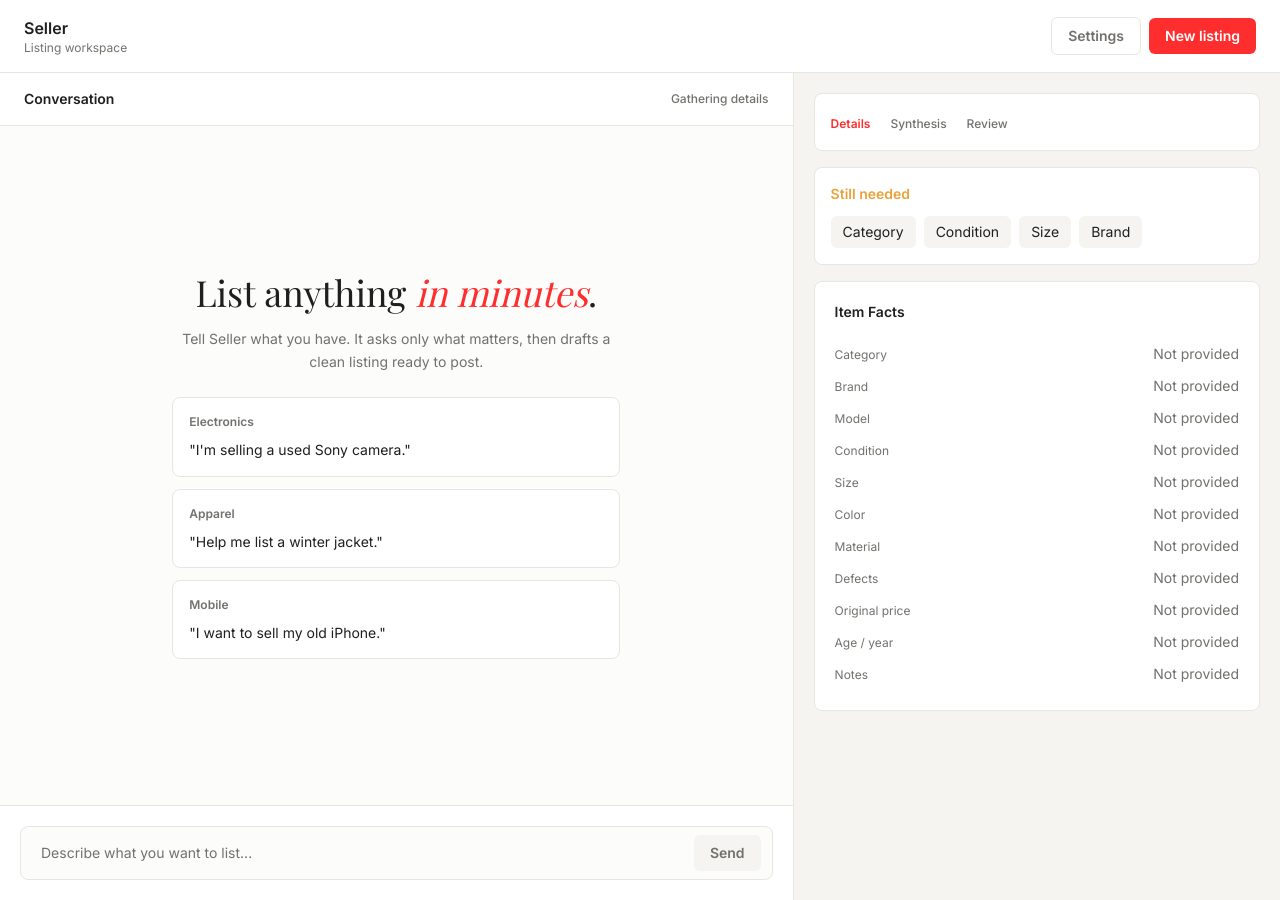
Test case: SellerAgentPage › submits a message through the typed API client and renders the reply
The image size is (1280, 900).
Expected: the heading "List anything in minutes." is shown, [172, 272, 620, 312]
In the text box named "message": (396, 853) [20, 826, 773, 880], type "I want to sell a jacket"
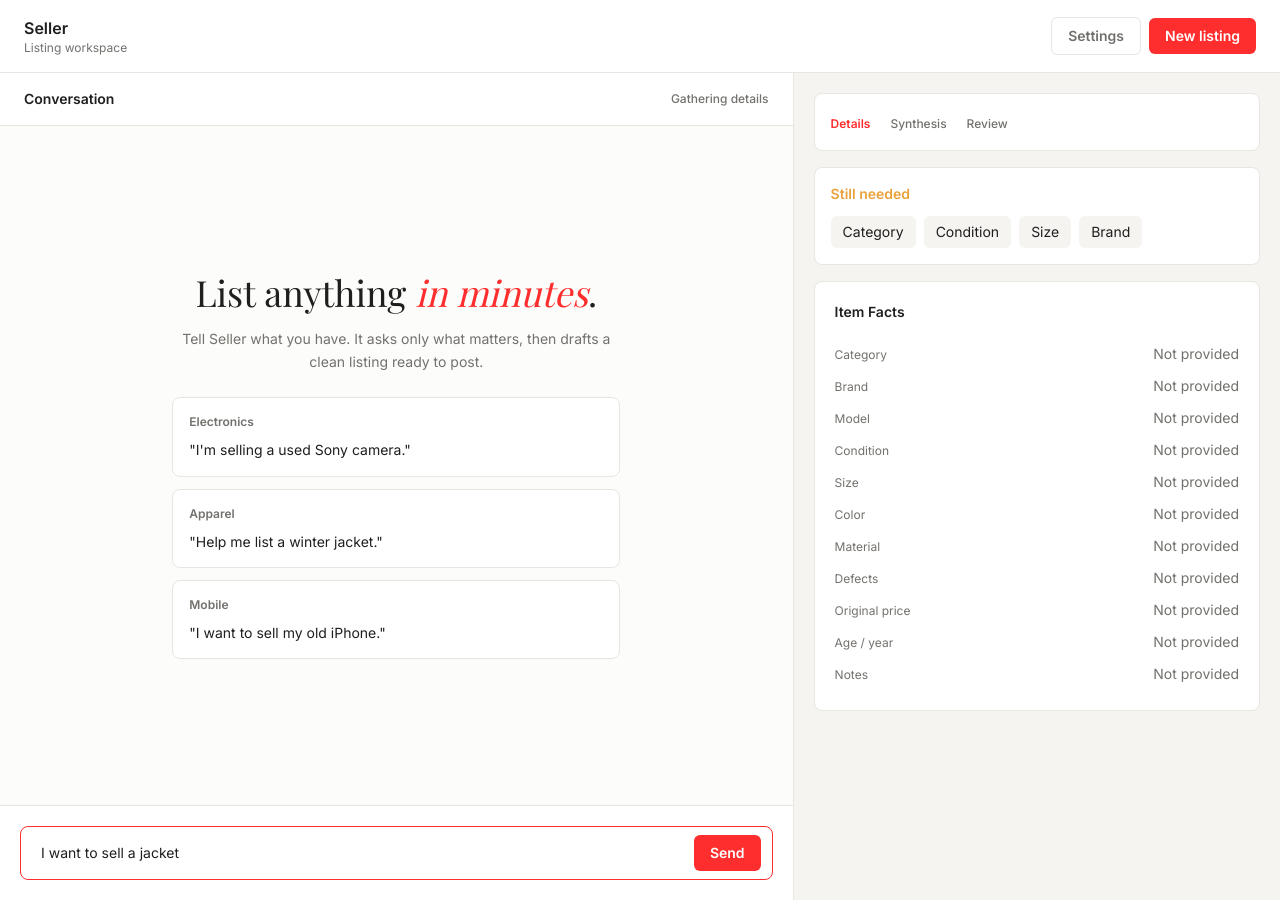
Click the button with aria-label "send message": click(727, 853) [694, 835, 761, 871]
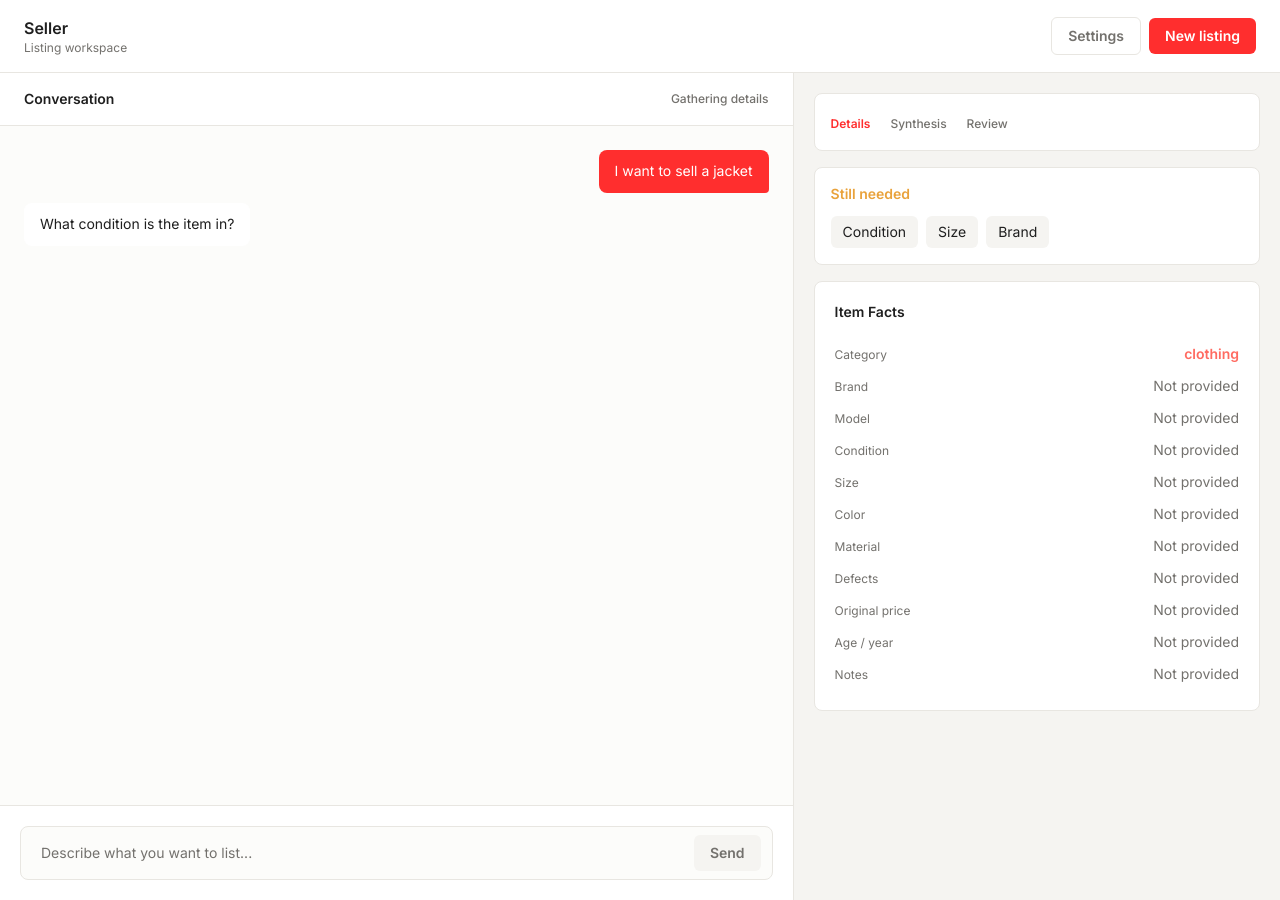
Expected: the text "What condition is the item in?" is shown, [40, 213, 234, 236]
Expected: the text "I want to sell a jacket" is shown, [615, 160, 753, 183]
